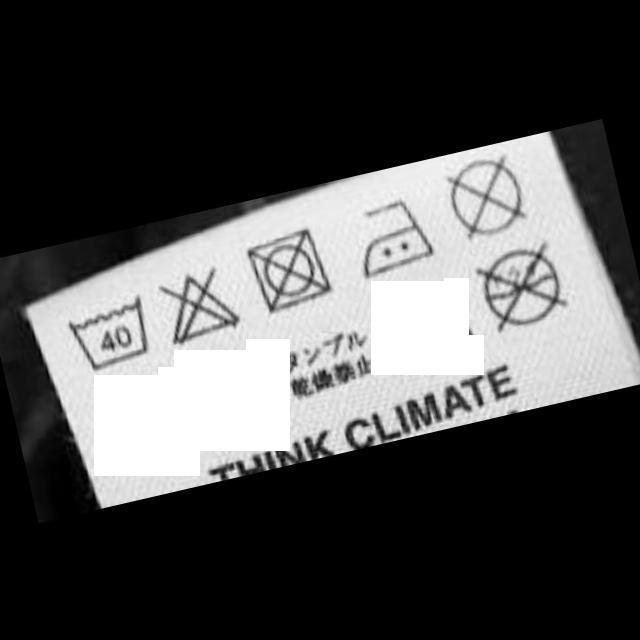40C: (59, 292, 158, 374)
DN_bleach: (151, 257, 245, 349)
DN_dry_clean: (470, 233, 572, 334), (440, 142, 534, 245)
DN_tumble_dry: (238, 221, 338, 316)
iron_medium: (342, 188, 443, 280)
